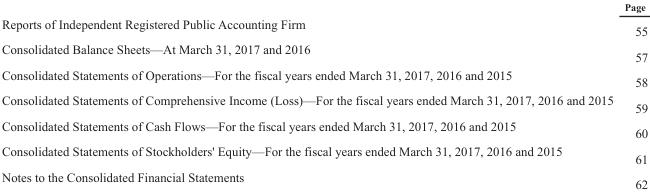table: (0, 0, 647, 191)
table column: (0, 0, 618, 191), (618, 0, 647, 191)
table column header: (0, 0, 647, 14)
table row: (0, 39, 647, 65), (0, 90, 647, 116), (0, 141, 647, 167), (0, 14, 647, 39), (0, 65, 647, 90), (0, 116, 647, 141), (0, 167, 647, 191), (0, 0, 647, 14)
